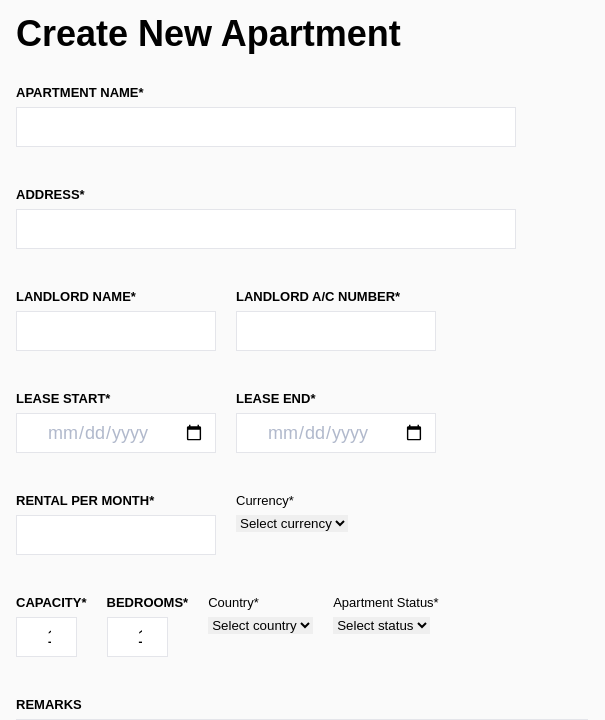
Scenario: New apartment form › should reject non-number changes to the capacity input
The image size is (605, 720).
Replace the text in the number field labelled "Capacity*" with "Not a valid input": point(46, 637) left=16, top=617, right=77, bottom=657
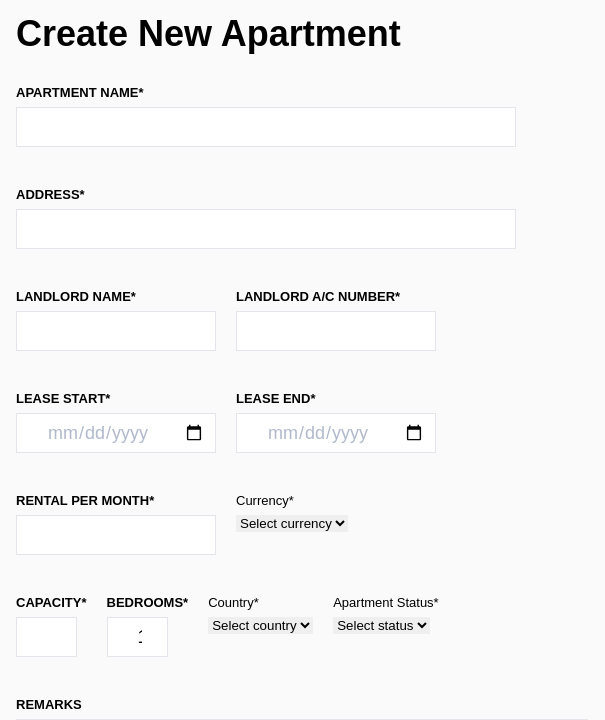
Expected: the number field labelled "Capacity*" is not empty, left=16, top=617, right=77, bottom=657
